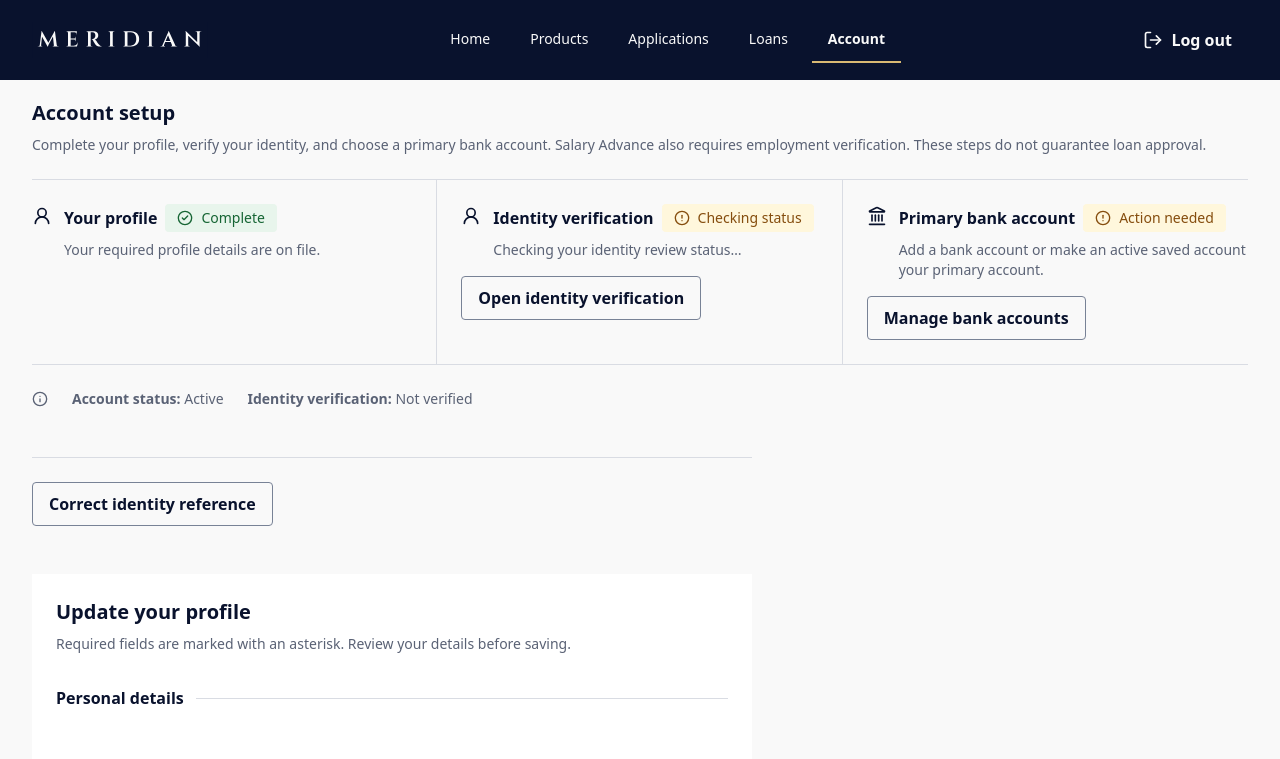
Test: Customer account routes and profile › deliberately corrects a UNVERIFIED profile without caching the reference
This screenshot has width=1280, height=759.
(page scrolled)
Click the button "Correct identity reference". click: (152, 504)
box: 32,482 -> 273,526
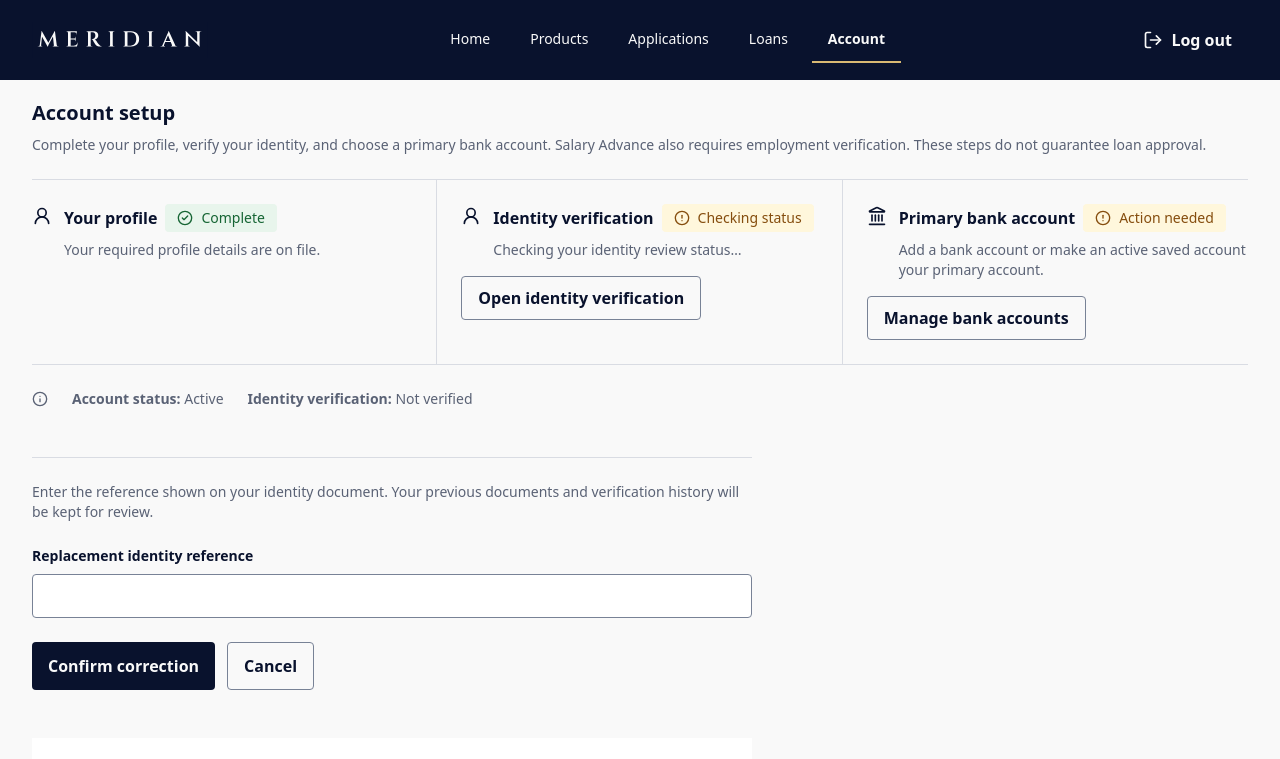
Type "FICTIONAL-CORRECTED-REFERENCE" into the field labelled "Replacement identity reference". click: (392, 596)
box: 32,574 -> 752,618
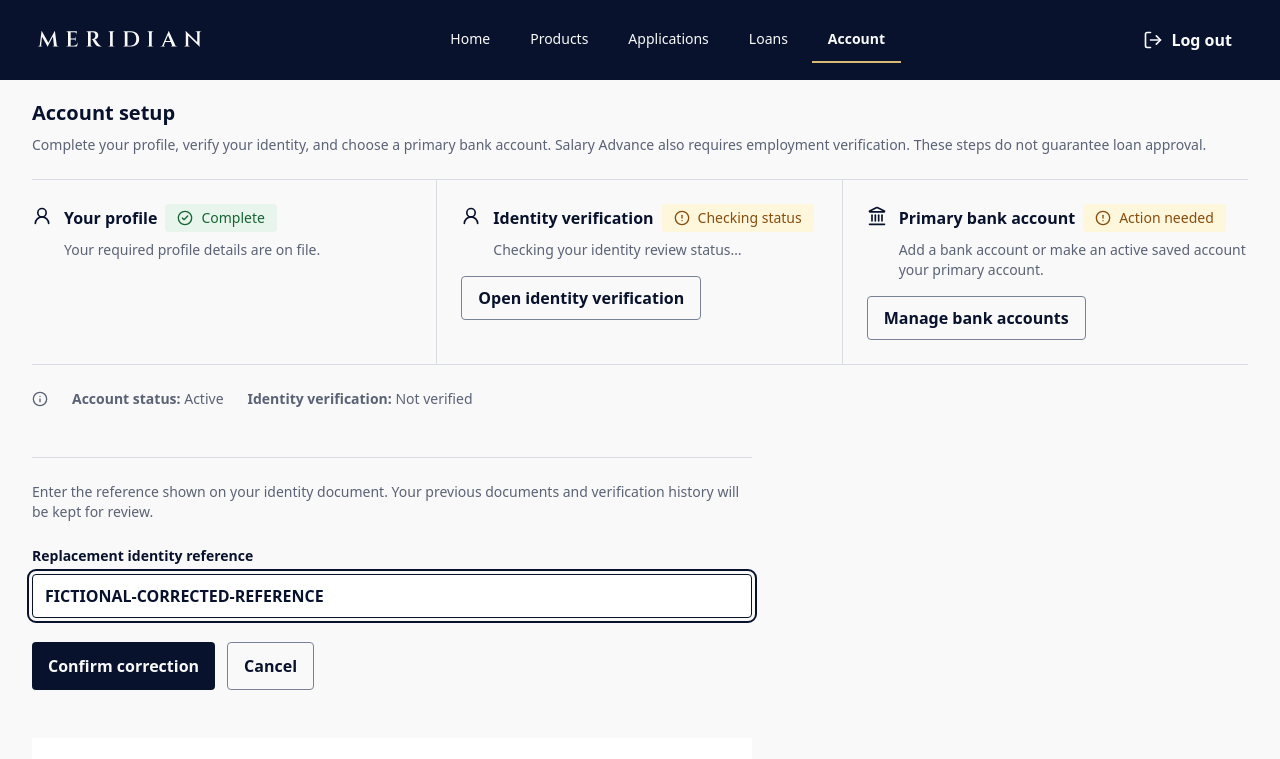
Click the button "Confirm correction". click: (124, 666)
box: 32,642 -> 215,690
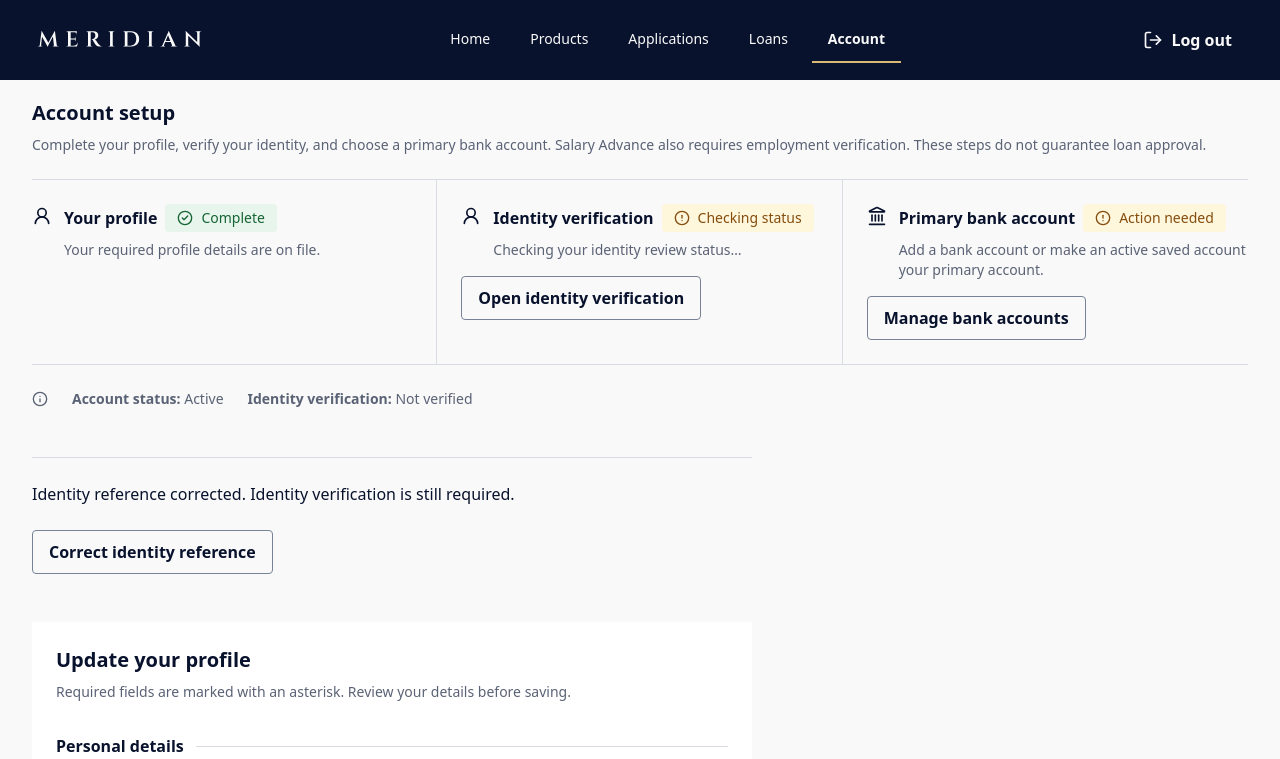
Now the text "Identity reference corrected. Identity verification is still required." is shown, box 32,483 -> 515,505
Now the label labelled "Replacement identity reference" is gone
